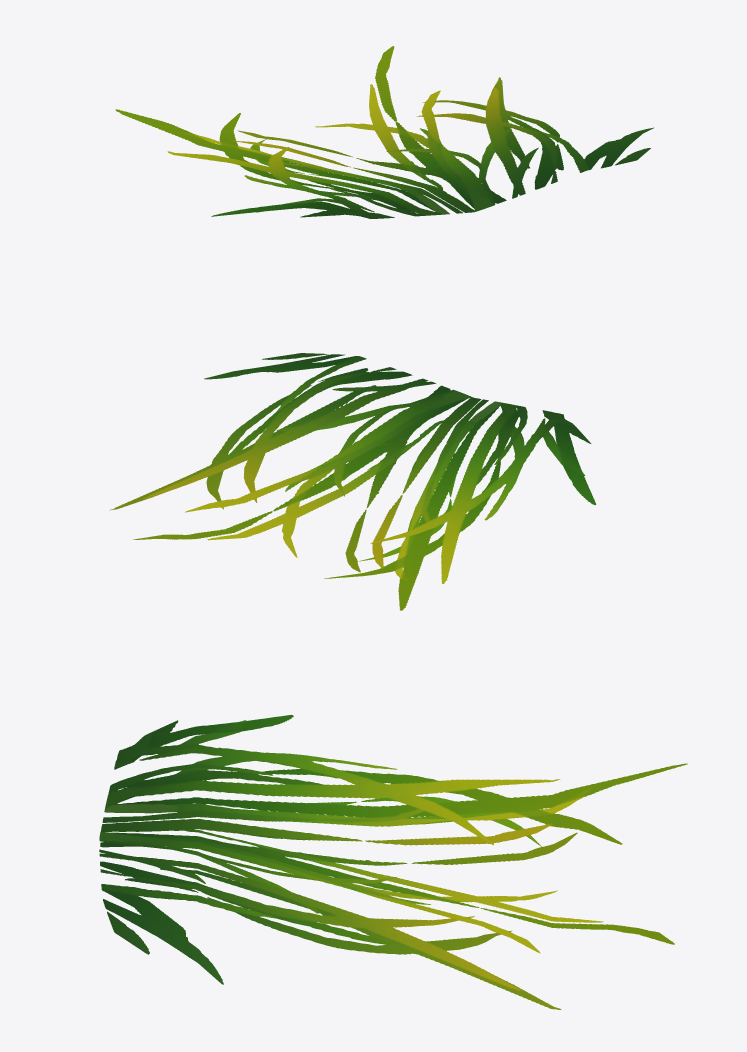
File: M_herbe.FBX
The picture shows the model from 3 angles, top to bottom: view 1: azimuth 30°, elevation 25°; view 2: azimuth 150°, elevation 25°; view 3: azimuth 270°, elevation 25°; orthographic projection. The views are drawn at different scales.
Visible parts, largest first — view 1: Plane148; view 2: Plane148; view 3: Plane148.
Boxes of the visible parts, x1,y1,x2,y2 form: Plane148: [115, 46, 653, 218]; Plane148: [110, 353, 596, 610]; Plane148: [99, 715, 687, 1009].
Bounding box in the file's own units: 735 × 84.61 × 738.
